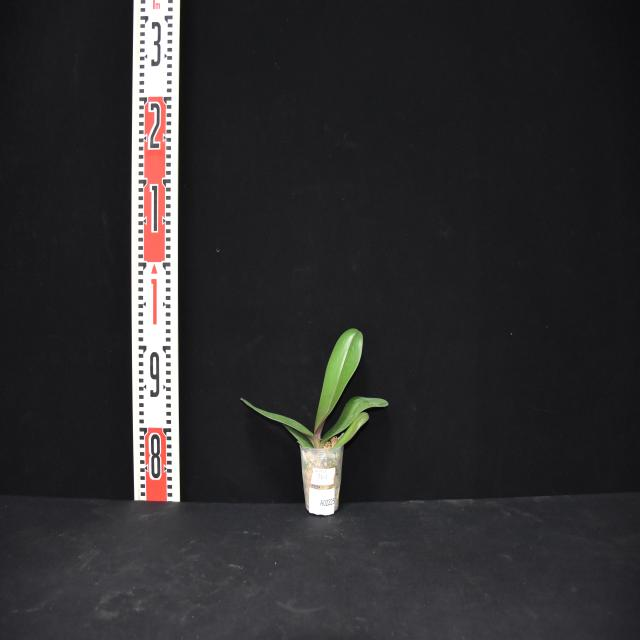leaf: (315, 328, 363, 438), (320, 397, 388, 446), (242, 399, 314, 442), (331, 412, 369, 450), (283, 424, 314, 448)
